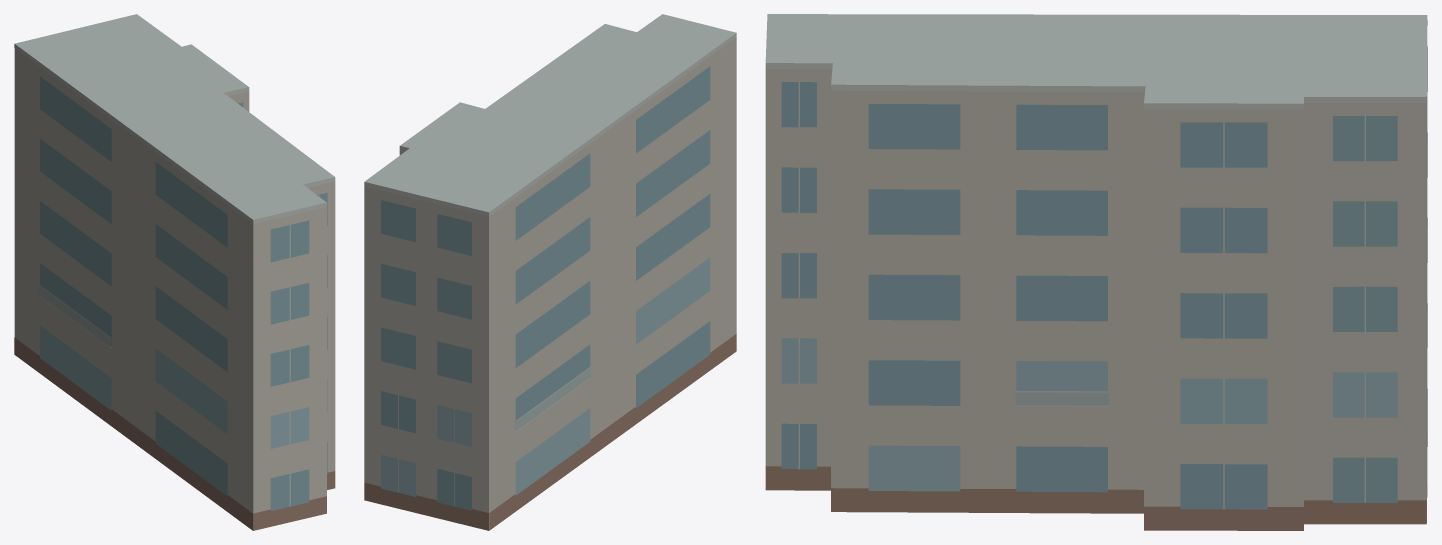
Rendered from survey-upis-32646635.glb.
The picture shows the model from 3 angles, left to right: view 1: azimuth 30°, elevation 25°; view 2: azimuth 150°, elevation 25°; view 3: azimuth 270°, elevation 25°; orthographic projection. The views are drawn at different scales.
Visible parts, largest first — view 1: survey-upis-32646635.tmp; view 2: survey-upis-32646635.tmp; view 3: survey-upis-32646635.tmp.
Boxes of the visible parts, x1=… form: survey-upis-32646635.tmp: x1=14, y1=14, x2=335, y2=530; survey-upis-32646635.tmp: x1=364, y1=14, x2=736, y2=530; survey-upis-32646635.tmp: x1=765, y1=14, x2=1427, y2=530.
Bounding box in the file's own units: 7.79 × 17.3 × 24.3.
